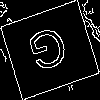G: (25, 24, 74, 82)
